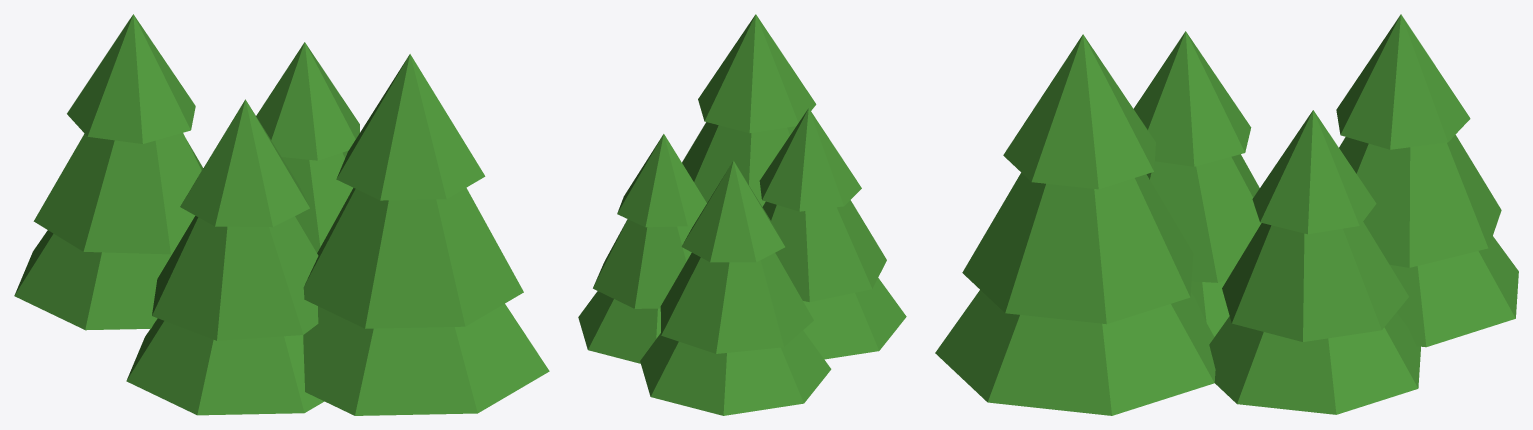
File: trees.glb
3 views of the same model, side by side, from view 1: azimuth 30°, elevation 25°; view 2: azimuth 150°, elevation 25°; view 3: azimuth 270°, elevation 25° (orthographic). The views are drawn at different scales.
Visible parts, largest first — view 1: 2 Tree, 1 Tree, 3 Tree, 4; view 2: 3 Tree, 1 Tree, 4, 2 Tree; view 3: 2 Tree, 4, 3 Tree, 1 Tree.
Part boxes in pixels (box(x1,y1,x2,y2)): 2 Tree: box(303, 54, 549, 415); 1 Tree: box(126, 99, 324, 415); 3 Tree: box(14, 14, 203, 330); 4: box(256, 42, 359, 252); 3 Tree: box(640, 161, 831, 415); 1 Tree: box(759, 108, 906, 359); 4: box(578, 134, 706, 363); 2 Tree: box(682, 14, 816, 206); 2 Tree: box(935, 34, 1215, 415); 4: box(1209, 110, 1420, 414); 3 Tree: box(1336, 14, 1518, 347); 1 Tree: box(1133, 31, 1261, 336).
Size of the model in its own units: 5.21 by 4.59 by 7.25.
